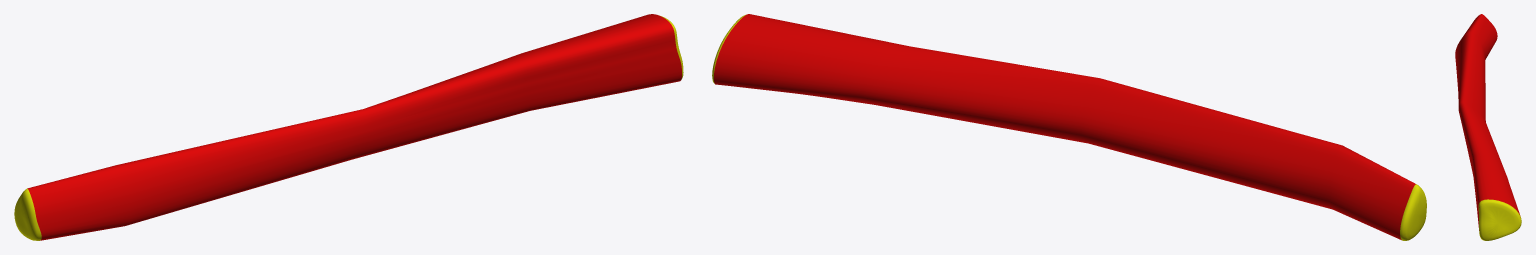
The model's file is Wood.fbx.
3 views of the same model, side by side, from view 1: azimuth 30°, elevation 25°; view 2: azimuth 150°, elevation 25°; view 3: azimuth 270°, elevation 25° (orthographic). The views are drawn at different scales.
Parts seen in each view (by area): view 1: Wood; view 2: Wood; view 3: Wood.
Boxes of the visible parts, x1,y1,x2,y2 form: Wood: (14,14,683,240); Wood: (712,14,1426,240); Wood: (1455,14,1521,240).
Bounding box in the file's own units: 63.17 × 6.04 × 9.02.
